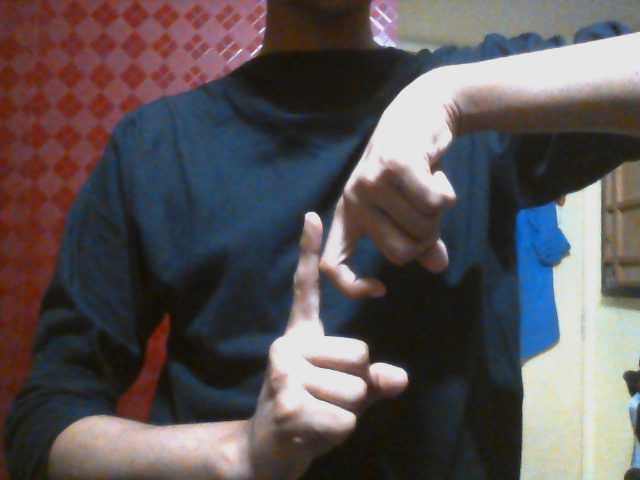K: (256, 150, 455, 462)
